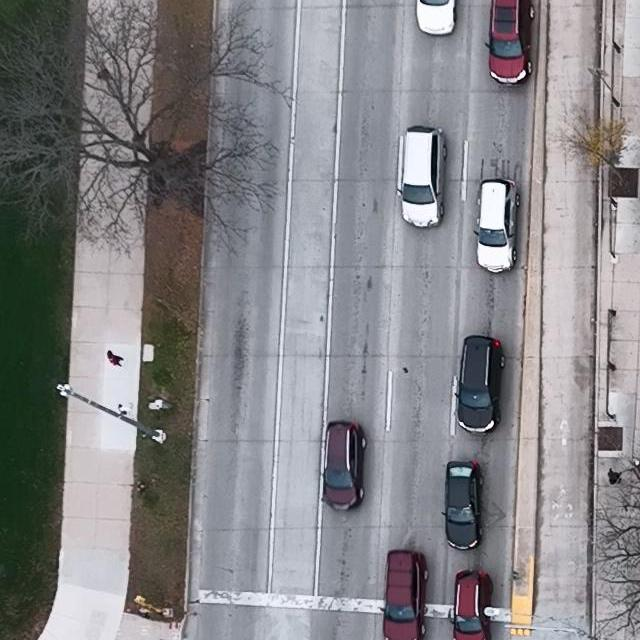car: (395, 126, 448, 229), (453, 335, 506, 435), (472, 178, 521, 274), (379, 550, 429, 640), (320, 422, 368, 513), (486, 0, 536, 86), (440, 461, 485, 550), (450, 570, 493, 640), (415, 0, 457, 36)
